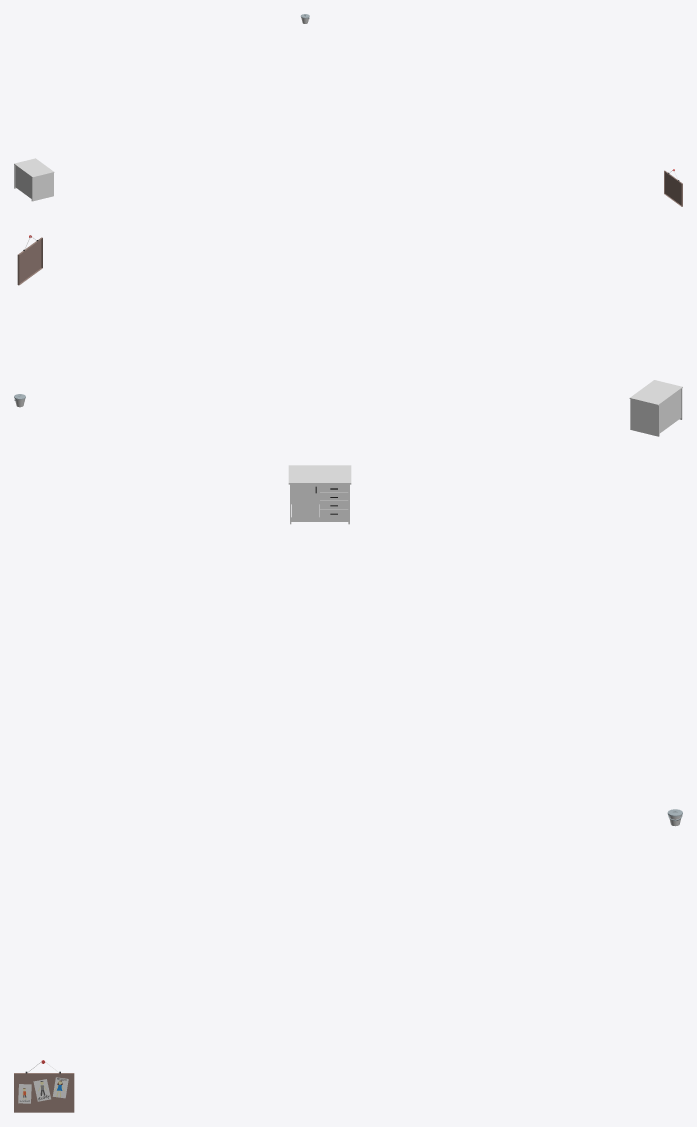
The model's file is wupin.fbx.
3 views of the same model, one above another, from view 1: azimuth 30°, elevation 25°; view 2: azimuth 150°, elevation 25°; view 3: azimuth 270°, elevation 25° (orthographic). The views are drawn at different scales.
Visible parts, largest first — view 1: low_poly_interior.211, low_poly_interior.367; view 2: low_poly_interior.211, low_poly_interior.367; view 3: low_poly_interior.211, low_poly_interior.367.
Part boxes in pixels (x1=…): low_poly_interior.211: x1=14, y1=158, x2=54, y2=201; low_poly_interior.367: x1=664, y1=169, x2=682, y2=206; low_poly_interior.211: x1=629, y1=380, x2=682, y2=436; low_poly_interior.367: x1=17, y1=235, x2=42, y2=285; low_poly_interior.211: x1=288, y1=465, x2=351, y2=524; low_poly_interior.367: x1=14, y1=1060, x2=74, y2=1112.
Size of the model in its own units: 1598 by 291 by 970.
Materials: 1 (1 with a texture image).
